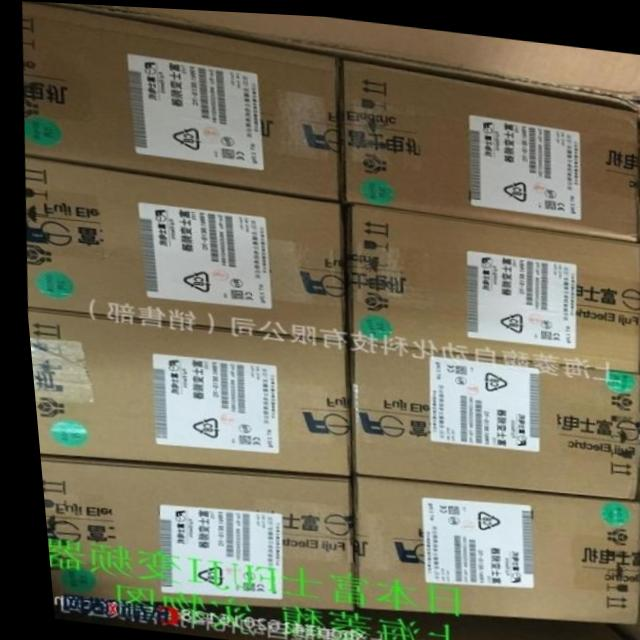box: (23, 1, 336, 198), (23, 153, 337, 338), (337, 47, 638, 236), (82, 3, 640, 99), (23, 307, 340, 474), (341, 201, 638, 368), (32, 456, 343, 607), (343, 337, 636, 493), (343, 473, 633, 617)
